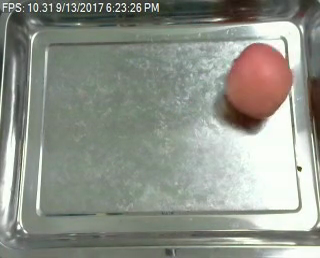Apple: (223, 42, 293, 125)
